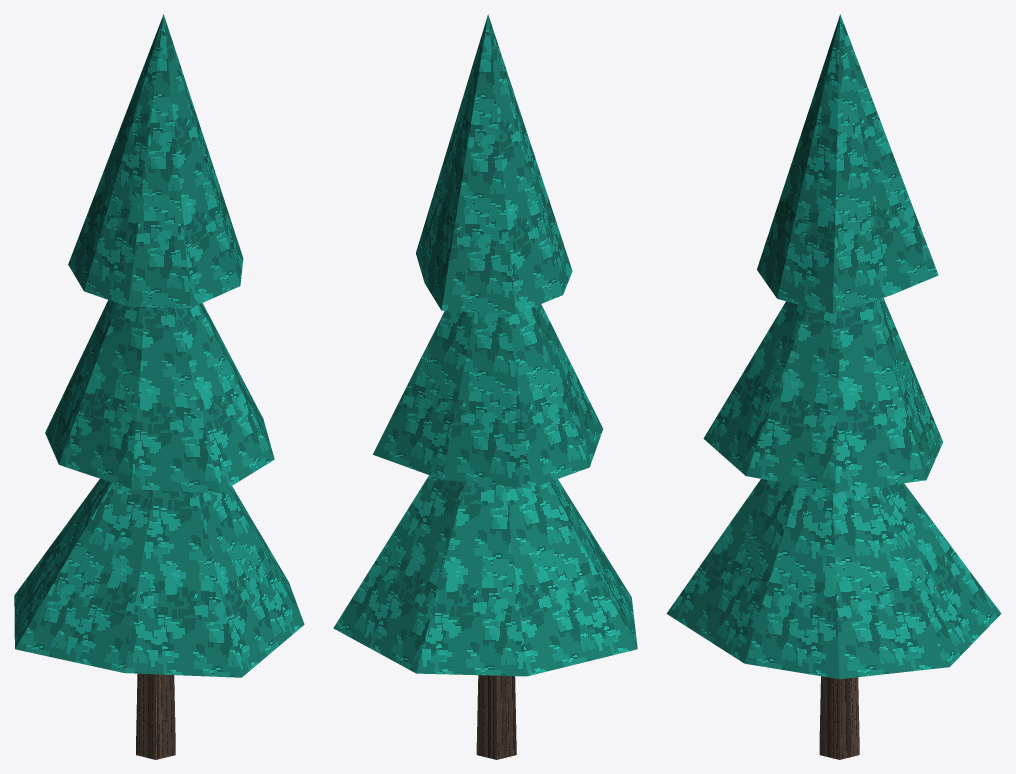
File: pine.glb
3 views of the same model, side by side, from view 1: azimuth 30°, elevation 25°; view 2: azimuth 150°, elevation 25°; view 3: azimuth 270°, elevation 25° (orthographic).
Visible parts, largest first — view 1: pine; view 2: pine; view 3: pine.
Boxes of the visible parts, left/top/right/bottom form: pine: left=14, top=14, right=304, bottom=759; pine: left=333, top=14, right=637, bottom=759; pine: left=666, top=14, right=1001, bottom=759.
Bounding box in the file's own units: 2.76 × 7.05 × 2.89.
Materials: 2 (2 with a texture image).
